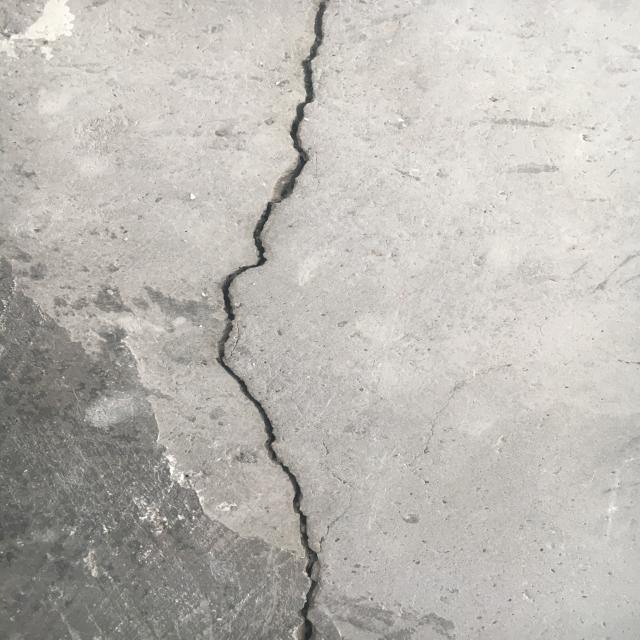Rachadura: (211, 0, 334, 640)
